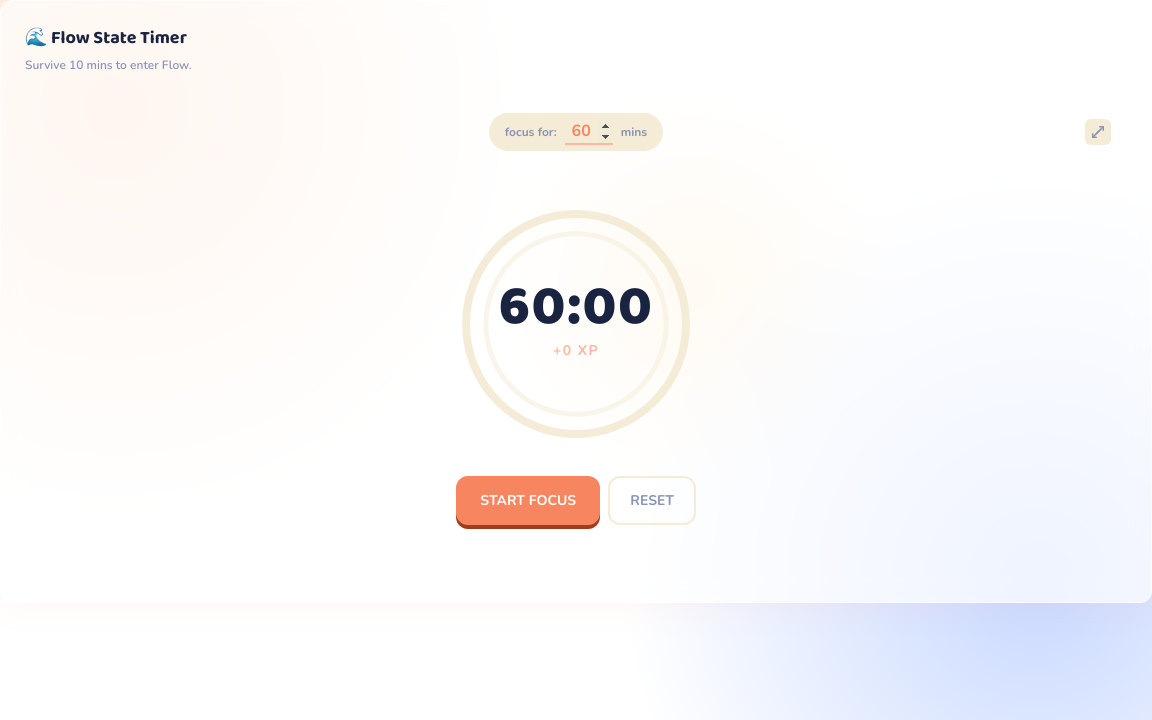
Scenario: FocusTimer Component › activates flow state after 10 minutes and adds real-time XP
The width and height of the screenshot is (1152, 720).
Click the button "START FOCUS": (528, 500) [456,476,600,525]
Wait 660000 ms
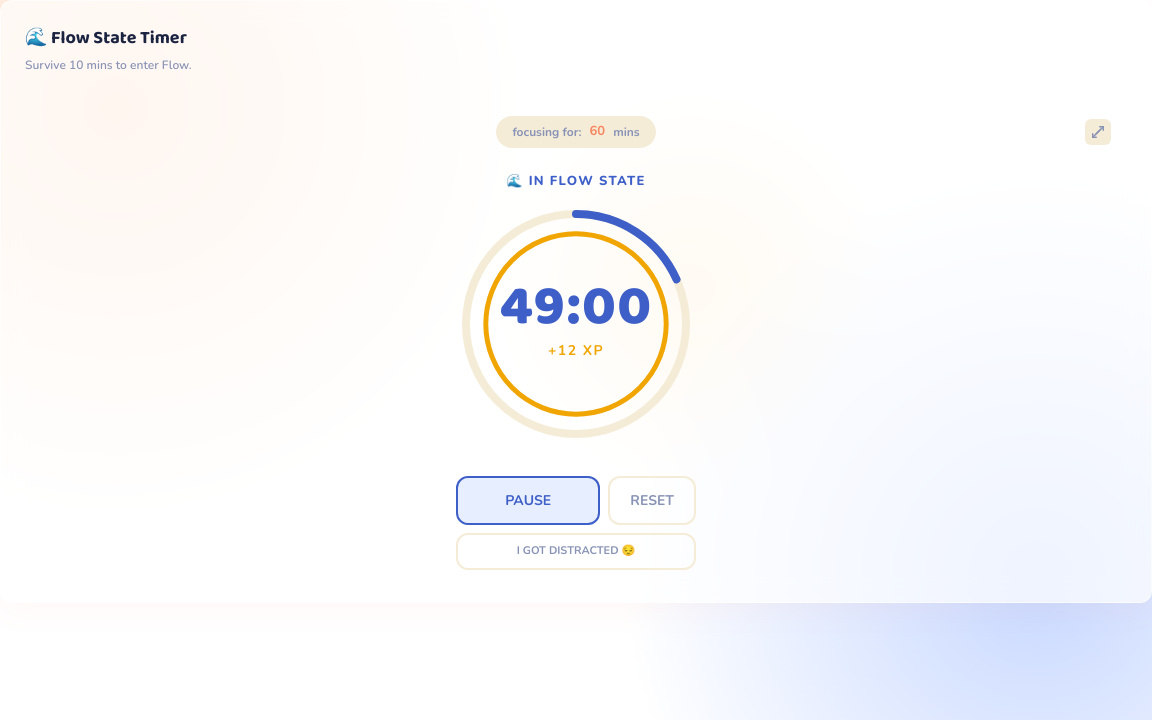
Expected: the text "🌊 IN FLOW STATE" is shown, [506,172,646,192]
